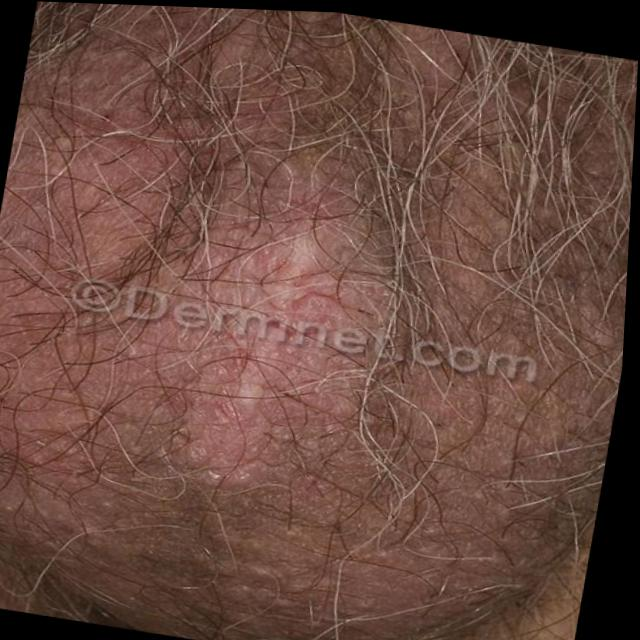Eczema: (148, 168, 346, 458)
